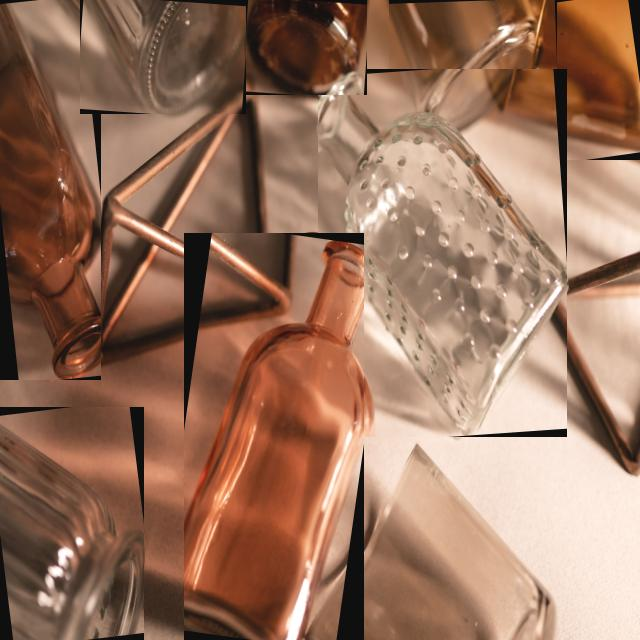Bottle: (317, 70, 566, 436), (184, 233, 362, 639), (0, 0, 100, 379), (0, 408, 143, 639), (389, 0, 555, 131), (515, 0, 639, 160), (79, 0, 244, 113), (245, 0, 365, 94)
